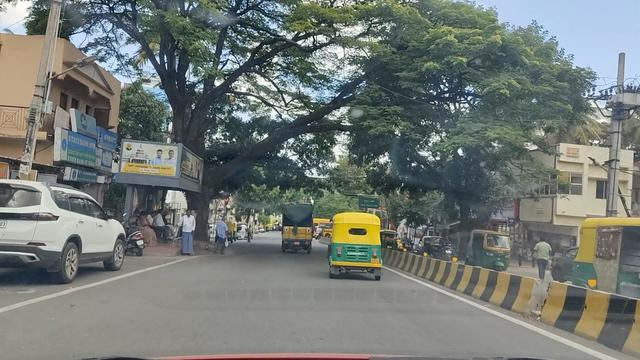HMV: (282, 200, 316, 262)
LMV: (332, 212, 380, 283)
